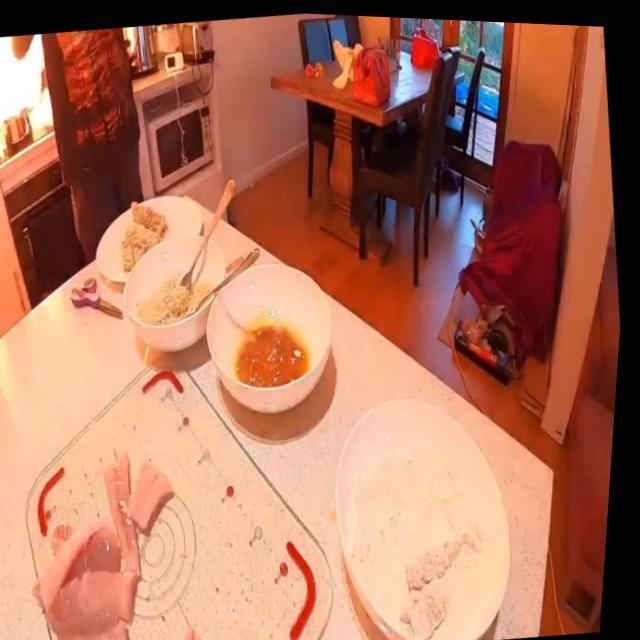fire: (0, 31, 64, 173)
